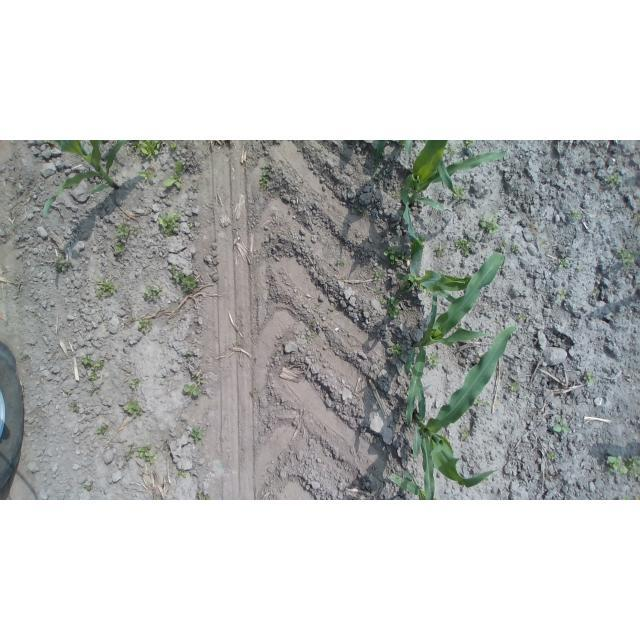Maize: (387, 324, 519, 500), (398, 248, 512, 429), (394, 141, 512, 243), (391, 204, 476, 318), (34, 142, 134, 226)
Weeds: (155, 212, 193, 240), (78, 354, 105, 387), (164, 161, 188, 191), (170, 268, 198, 292), (136, 141, 168, 160), (614, 246, 637, 271), (115, 220, 142, 241), (605, 453, 628, 477), (381, 293, 403, 318), (94, 279, 121, 299), (382, 247, 411, 265), (122, 402, 150, 420), (624, 452, 640, 481), (187, 423, 208, 445), (143, 282, 165, 303), (549, 416, 573, 435), (182, 380, 207, 398), (478, 211, 498, 233), (454, 237, 475, 257), (258, 162, 273, 189), (136, 444, 156, 463), (136, 316, 157, 334), (389, 343, 408, 359), (502, 378, 521, 394), (192, 487, 216, 499), (110, 241, 128, 257), (605, 171, 621, 189), (91, 424, 113, 437), (426, 351, 443, 367), (565, 207, 583, 222), (138, 171, 157, 185), (54, 258, 70, 274), (452, 185, 468, 201), (125, 376, 144, 389), (175, 464, 190, 480), (581, 370, 595, 387), (554, 287, 569, 302), (433, 241, 448, 255), (370, 267, 384, 282), (66, 400, 83, 412), (498, 240, 511, 255), (458, 426, 470, 441), (547, 448, 560, 461), (559, 257, 574, 268), (356, 204, 369, 216), (618, 493, 640, 500), (512, 243, 522, 258), (391, 189, 402, 201), (591, 283, 598, 301), (328, 304, 339, 315), (320, 278, 330, 290), (518, 311, 528, 322), (123, 452, 133, 463), (336, 257, 347, 267), (82, 483, 94, 492), (182, 349, 195, 357), (614, 310, 623, 318), (193, 181, 200, 191), (540, 240, 548, 248)
